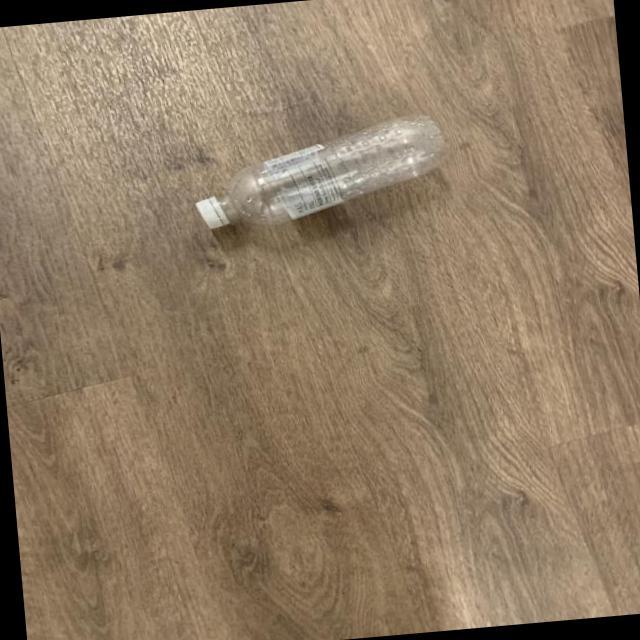BotolPlastik: (187, 110, 453, 234)
